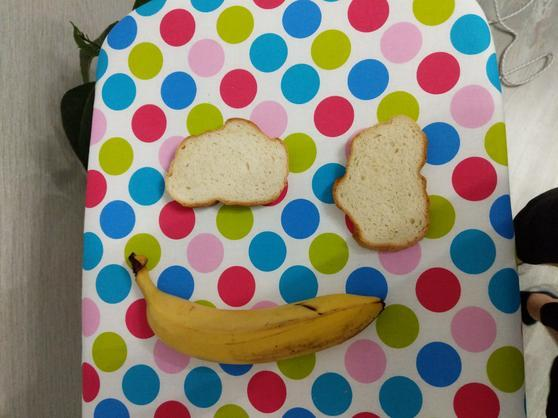banana: (118, 250, 416, 372)
white_bread: (332, 117, 441, 260), (150, 113, 299, 212)
